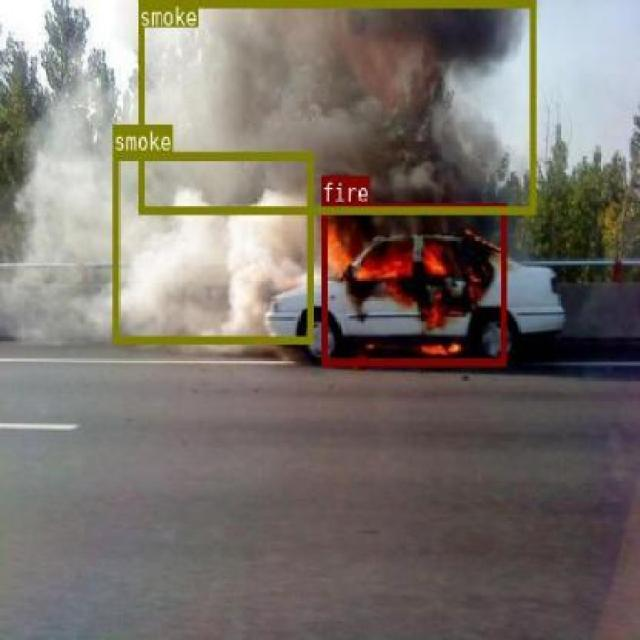fire: (320, 202, 506, 364)
smoke: (138, 0, 535, 212), (112, 150, 311, 342)
